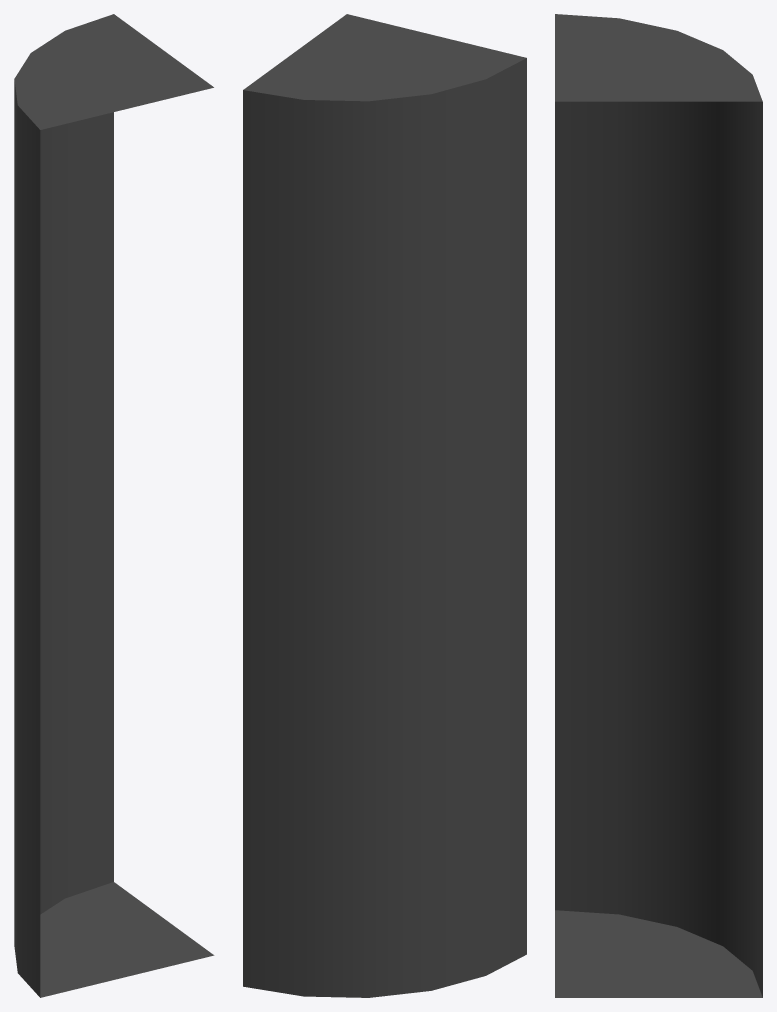
Rendered from SM_cable_right_09.fbx.
The picture shows the model from 3 angles, left to right: view 1: azimuth 30°, elevation 25°; view 2: azimuth 150°, elevation 25°; view 3: azimuth 270°, elevation 25°; orthographic projection. The views are drawn at different scales.
Visible parts, largest first — view 1: SM_cable_right_06; view 2: SM_cable_right_06; view 3: SM_cable_right_06.
Part boxes in pixels (x1,y1,x2,y2): SM_cable_right_06: [14, 14, 214, 997]; SM_cable_right_06: [243, 14, 526, 997]; SM_cable_right_06: [555, 14, 762, 997].
Bounding box in the file's own units: 10.24 × 48.76 × 10.24.
Materials: 1 (1 with a texture image).
